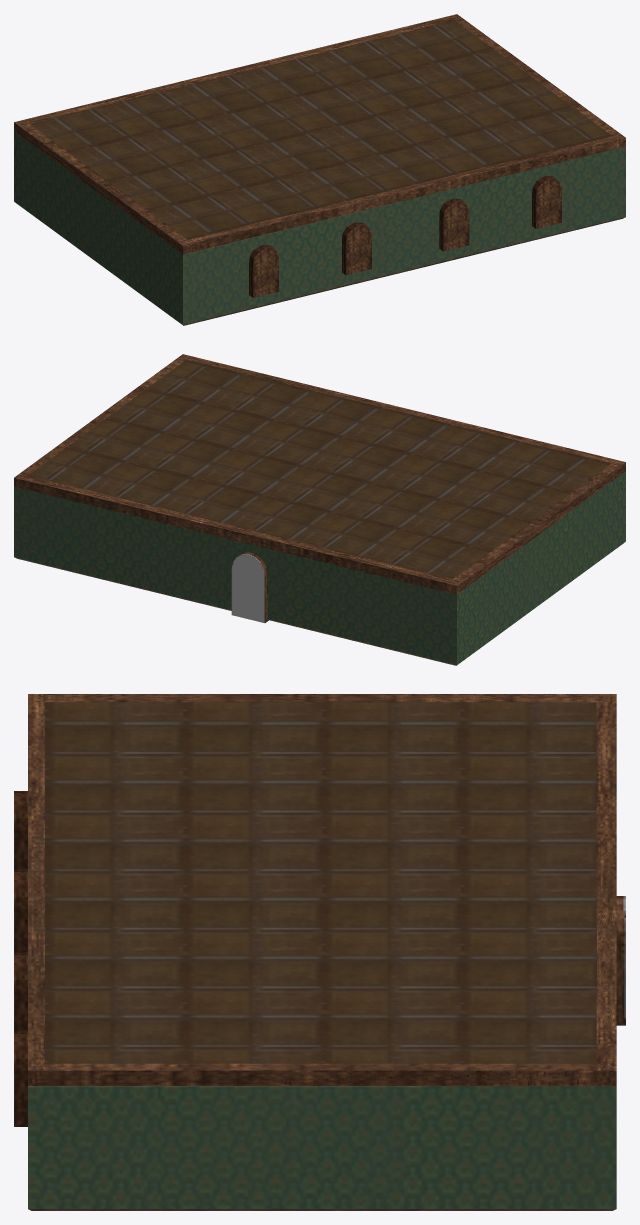
File: Pokoj_1.fbx
3 views of the same model, one above another, from view 1: azimuth 30°, elevation 25°; view 2: azimuth 150°, elevation 25°; view 3: azimuth 270°, elevation 25° (orthographic). The views are drawn at different scales.
Parts seen in each view (by area): view 1: Pokoj_1; view 2: Pokoj_1; view 3: Pokoj_1.
Part boxes in pixels (x1,y1,x2,y2): Pokoj_1: [14, 14, 625, 325]; Pokoj_1: [14, 354, 625, 665]; Pokoj_1: [14, 694, 625, 1210].
Bounding box in the file's own units: 4526 × 797 × 3107.
